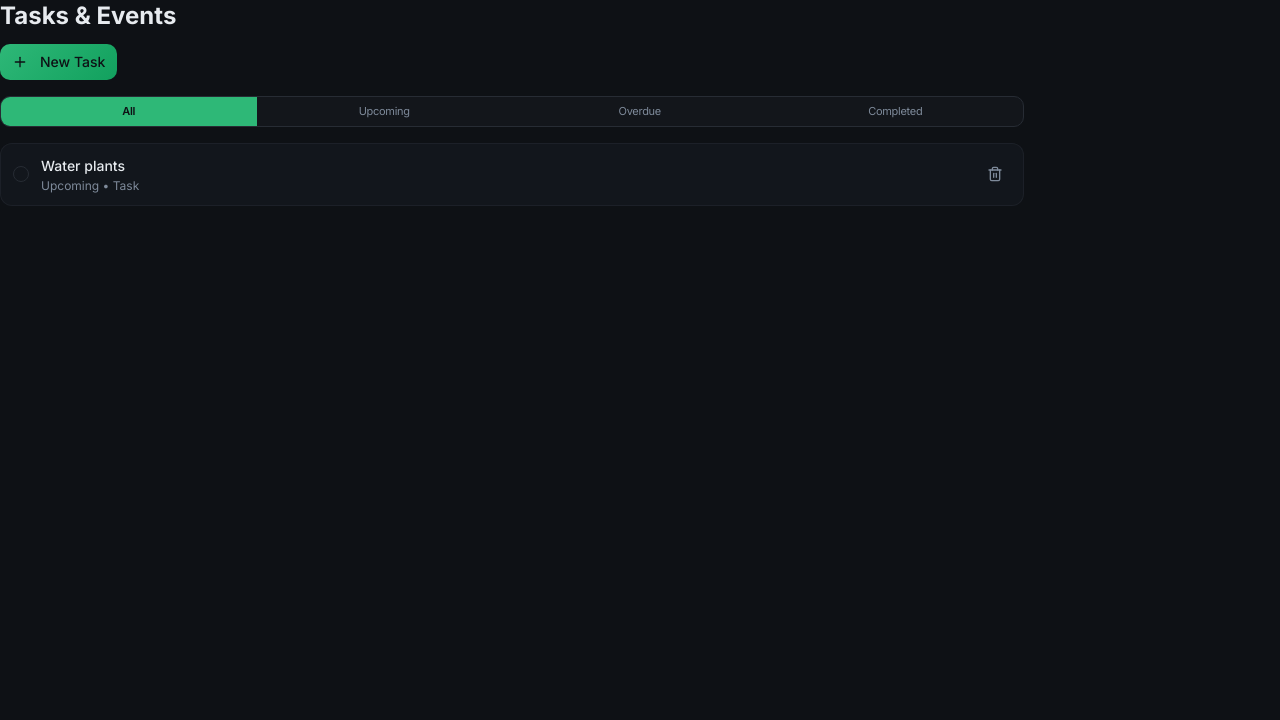
Tasks delete flow › opens confirm, deletes on confirm, and shows undo toast that restores
Later steps or results of the test are not shown.
Click the button named "Delete task".
click(995, 174)  # box 979,158 -> 1011,190
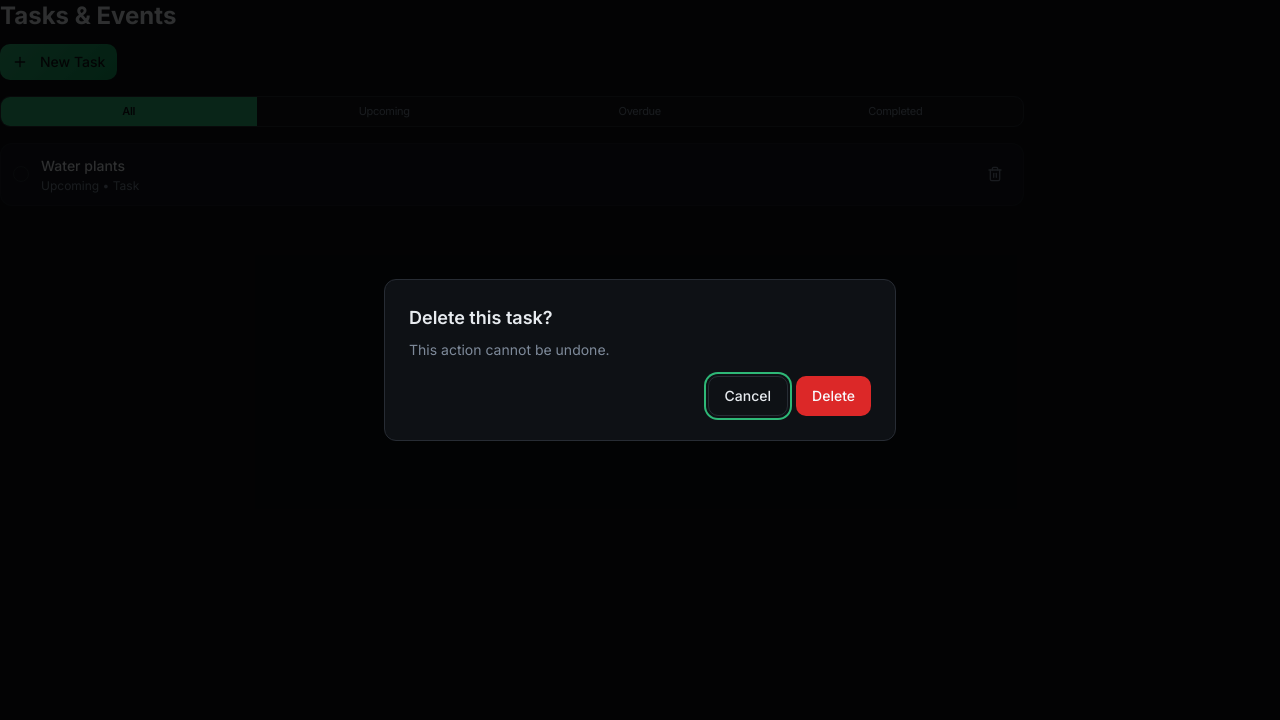
Now the heading "Delete this task?" is shown, box 409,307 -> 553,328
